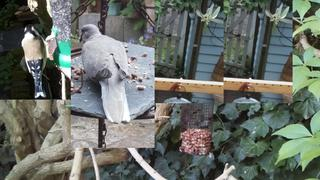collared dove: (79, 24, 131, 124)
goldfinch: (21, 24, 47, 99)
